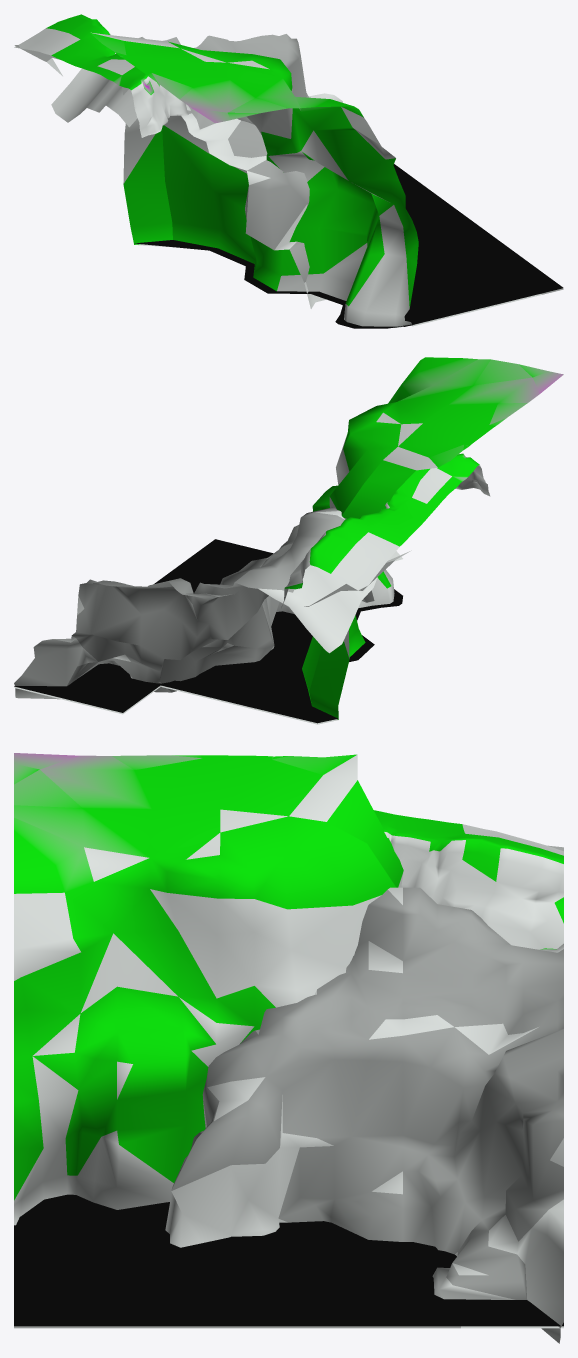
3 renders of one model, top to bottom at view 1: azimuth 30°, elevation 25°; view 2: azimuth 150°, elevation 25°; view 3: azimuth 270°, elevation 25°, orthographic. The views are drawn at different scales.
Visible parts, largest first — view 1: G:\FFXIV-MapTools\exports\f1f1\bg\ffxiv\fst_f1\fld\f1f1\bgpl (×10); view 2: G:\FFXIV-MapTools\exports\f1f1\bg\ffxiv\fst_f1\fld\f1f1\bgpl (×10); view 3: G:\FFXIV-MapTools\exports\f1f1\bg\ffxiv\fst_f1\fld\f1f1\bgpl (×12).
Part boxes in pixels (x1,y1,x2,y2): G:\FFXIV-MapTools\exports\f1f1\bg\ffxiv\fst_f1\fld\f1f1\bgpl (×10): (14,14,563,328); G:\FFXIV-MapTools\exports\f1f1\bg\ffxiv\fst_f1\fld\f1f1\bgpl (×10): (14,357,563,724); G:\FFXIV-MapTools\exports\f1f1\bg\ffxiv\fst_f1\fld\f1f1\bgpl (×12): (14,753,563,1343).
Bounding box in the file's own units: 128 × 92.12 × 128.
